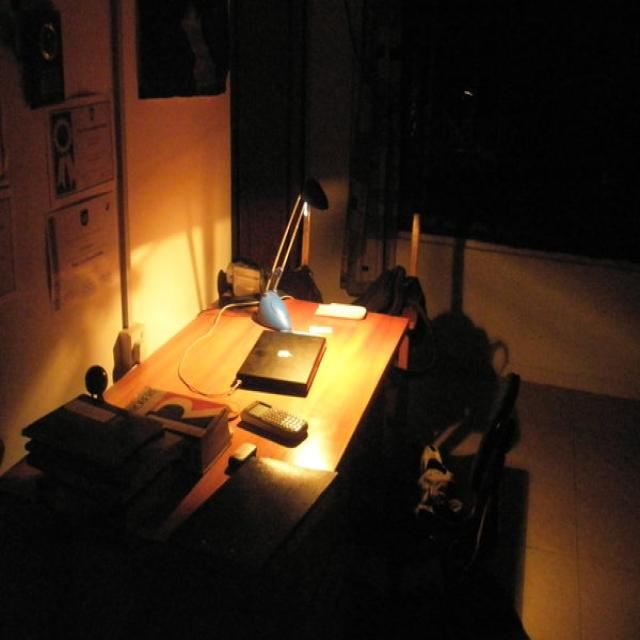Table: (0, 288, 426, 640)
